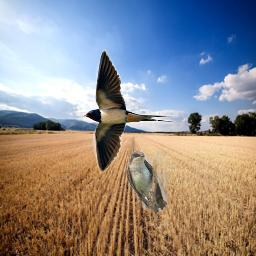Swallow: (83, 49, 176, 175), (126, 151, 168, 214)
